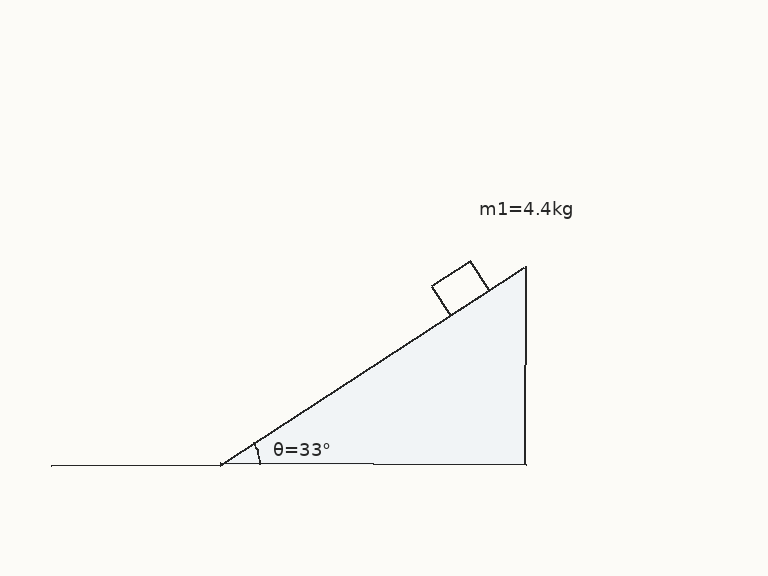block: (430, 259, 491, 317)
ramp: (218, 264, 526, 466)
